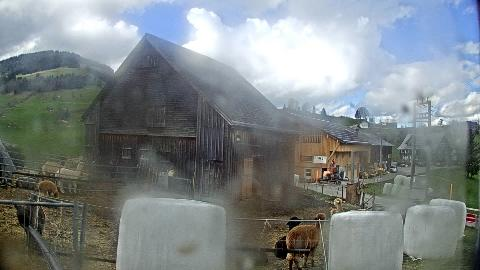car: (388, 165, 398, 173), (418, 162, 424, 166)
sheep: (286, 213, 326, 270), (13, 200, 45, 242), (274, 217, 302, 260), (55, 162, 85, 194), (42, 159, 72, 181), (333, 198, 368, 214), (38, 180, 60, 198), (15, 176, 37, 190), (330, 208, 338, 220)
